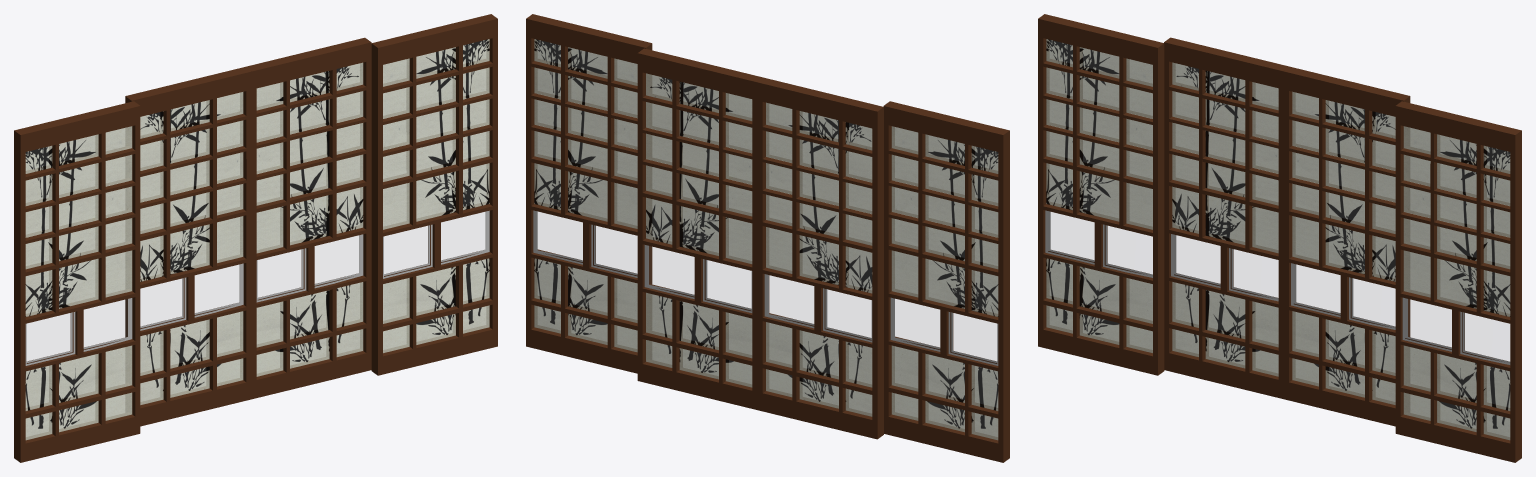
Rendered from shoji door textured.fbx.
3 renders of one model, left to right at view 1: azimuth 30°, elevation 25°; view 2: azimuth 150°, elevation 25°; view 3: azimuth 330°, elevation 25°, orthographic.
Parts seen in each view (by area): view 1: scrren_L, scrren_L4, scrren_L5, scrren_L6; view 2: scrren_L6, scrren_L4, scrren_L5, scrren_L; view 3: scrren_L, scrren_L4, scrren_L6, scrren_L5.
Boxes of the visible parts, x1,y1,x2,y2 form: scrren_L: (371,14,497,375); scrren_L4: (14,101,140,462); scrren_L5: (245,37,371,399); scrren_L6: (125,67,251,426); scrren_L6: (757,77,883,439); scrren_L4: (883,101,1009,462); scrren_L5: (637,48,763,409); scrren_L: (526,14,652,373); scrren_L: (1395,101,1521,462); scrren_L4: (1038,14,1164,375); scrren_L6: (1164,37,1289,399); scrren_L5: (1284,67,1410,426).
Bounding box in the file's own units: 21.65 × 14.21 × 1.09.
